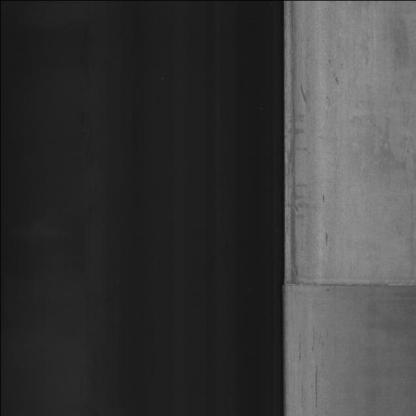welding_line: (271, 268, 416, 297)
